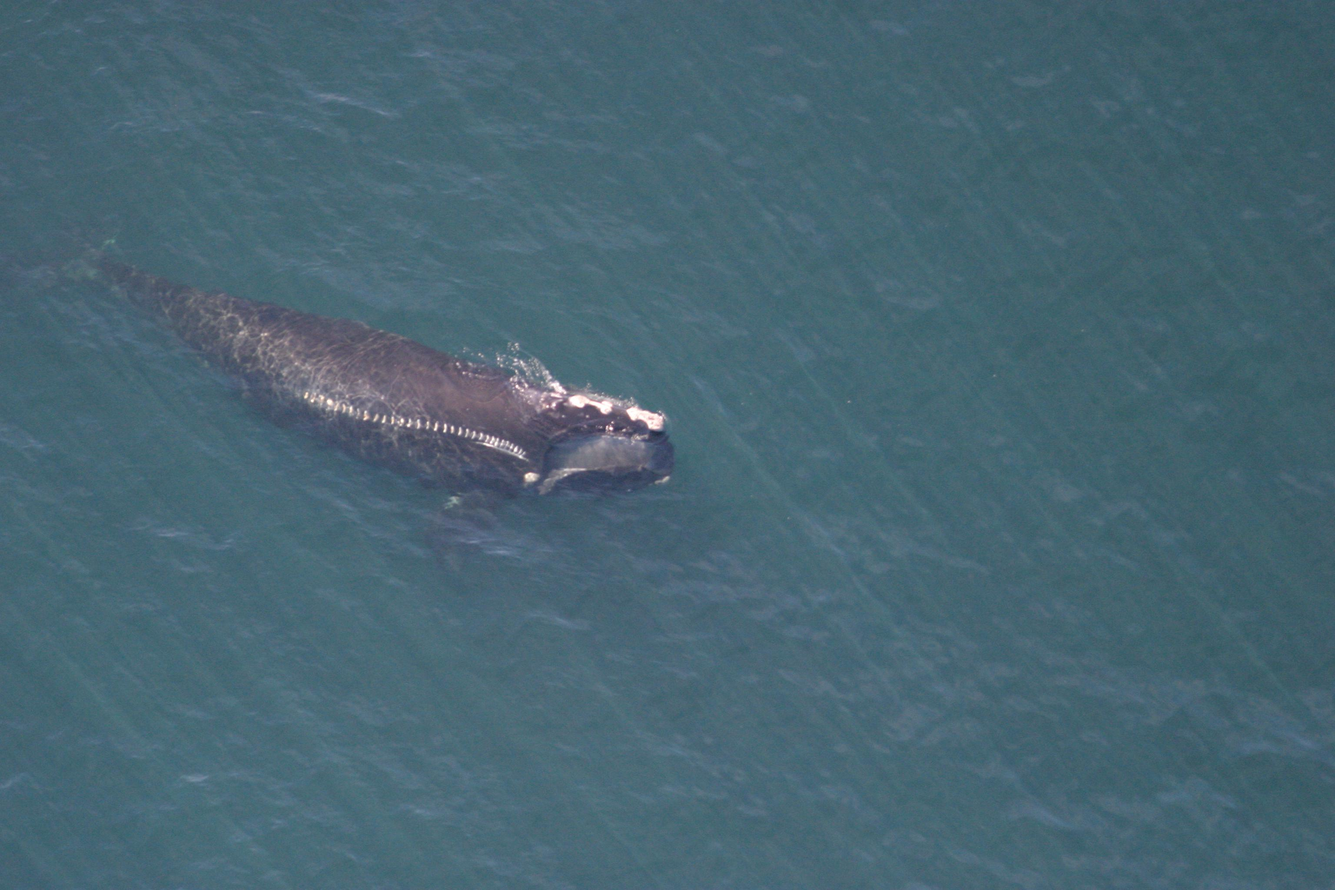whale: (5, 178, 680, 598)
